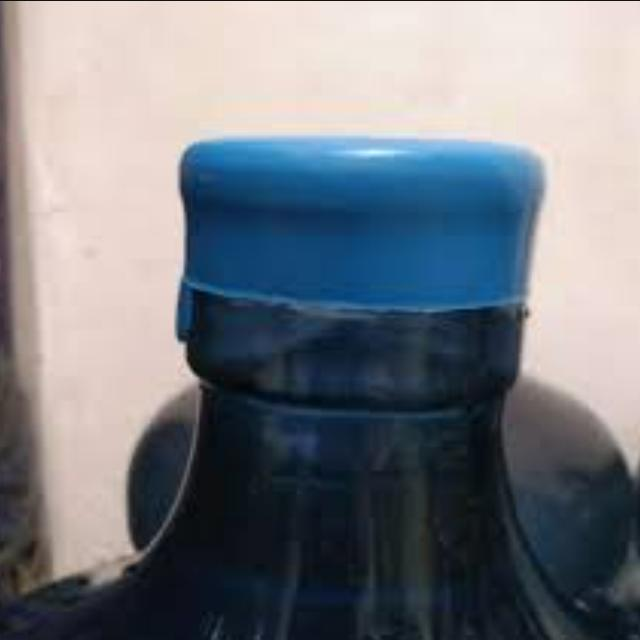TutupGalon: (0, 132, 639, 639)
